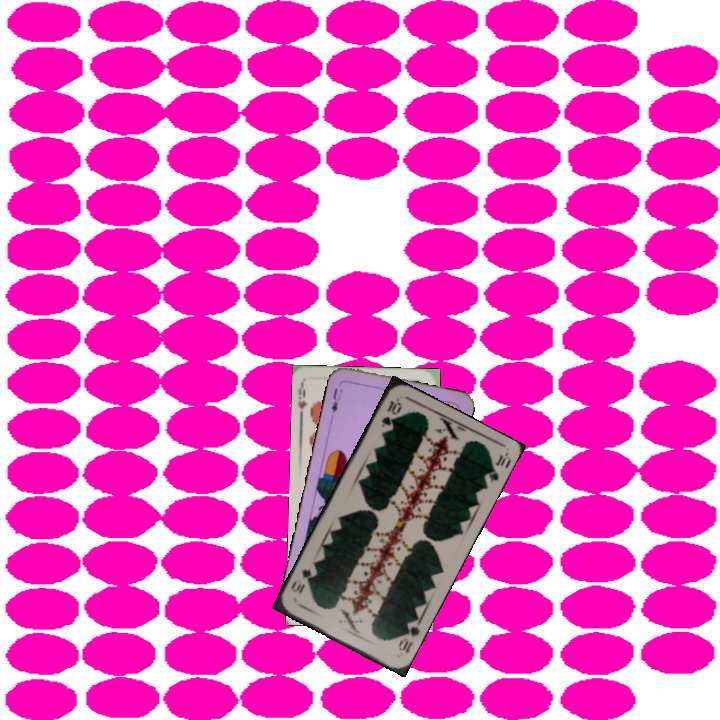EU: (327, 384, 345, 415)
G10: (394, 617, 422, 656), (377, 396, 404, 430)
H9: (294, 380, 309, 420)
